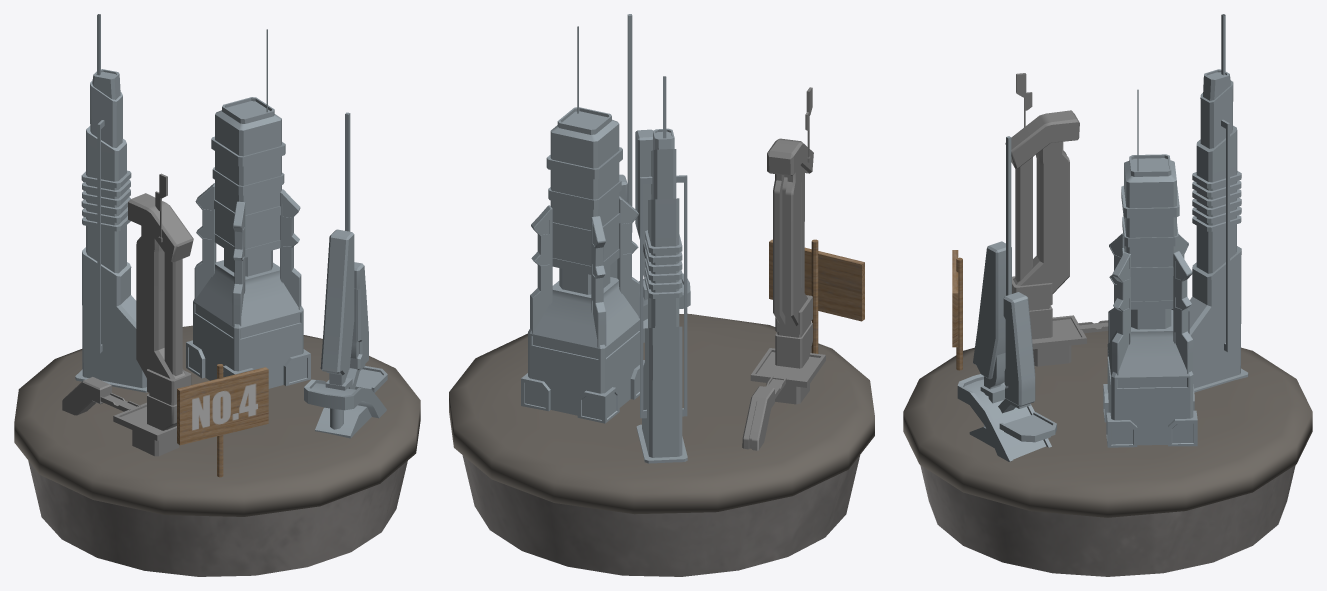
The model's file is StageModel4.fbx.
The picture shows the model from 3 angles, left to right: view 1: azimuth 30°, elevation 25°; view 2: azimuth 150°, elevation 25°; view 3: azimuth 270°, elevation 25°; orthographic projection. The views are drawn at different scales.
Parts seen in each view (by area): view 1: map4; view 2: map4; view 3: map4.
Boxes of the visible parts, x1,y1,x2,y2 form: map4: (14,14,420,576); map4: (449,14,874,576); map4: (903,14,1312,576).
Bounding box in the file's own units: 9.86 × 12.14 × 9.86.
